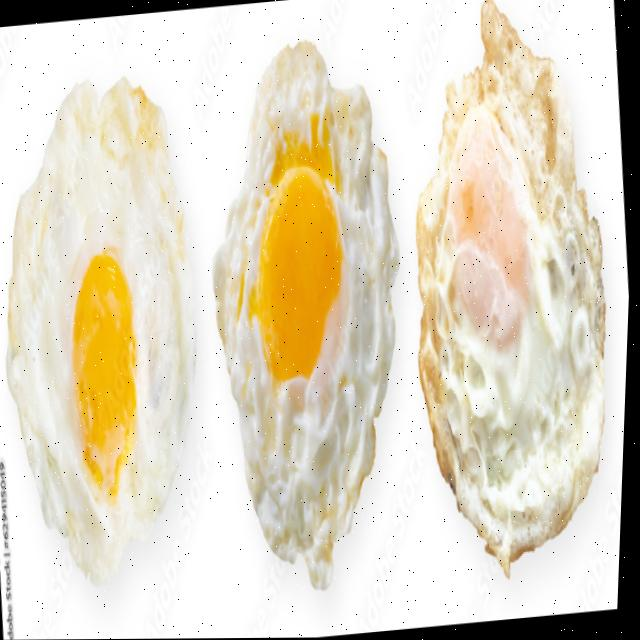Egg: (417, 0, 608, 574), (215, 41, 400, 587), (10, 80, 197, 584)
